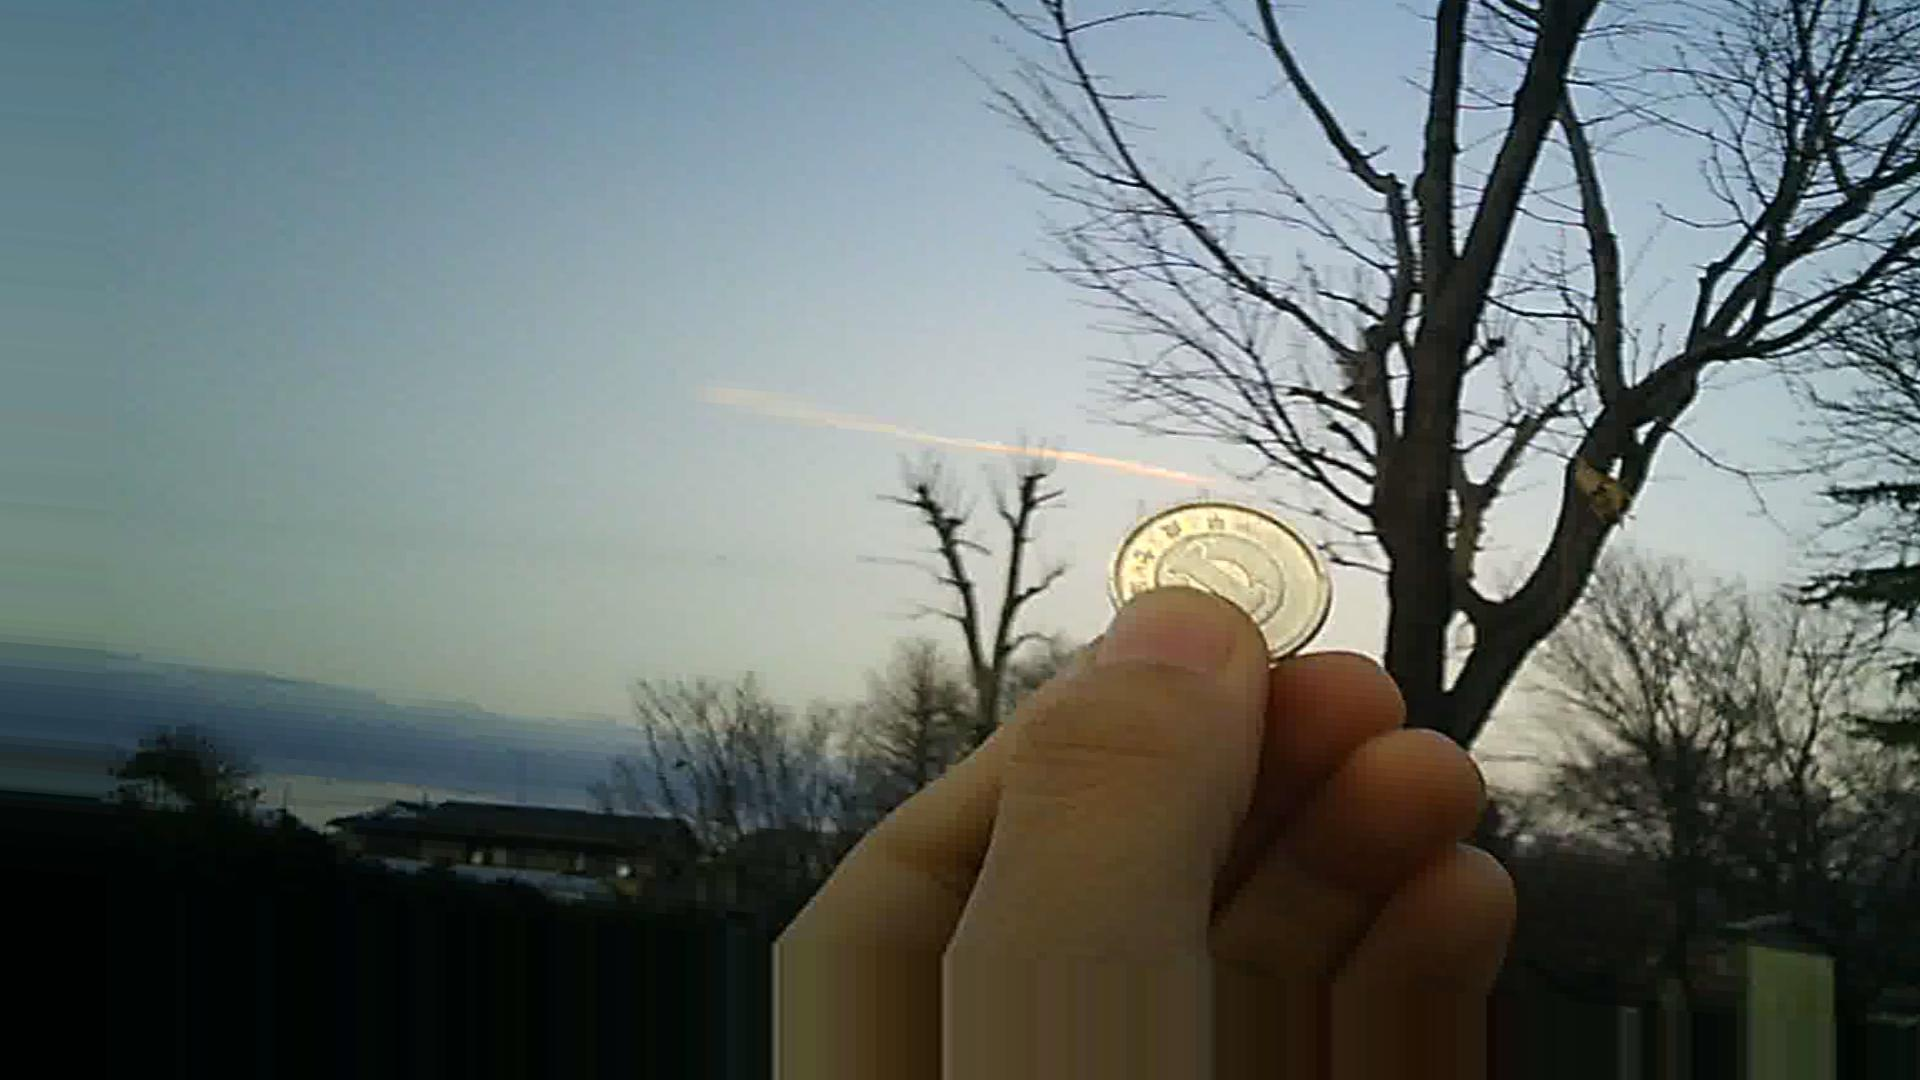1 Yen: (1097, 496, 1345, 662)
